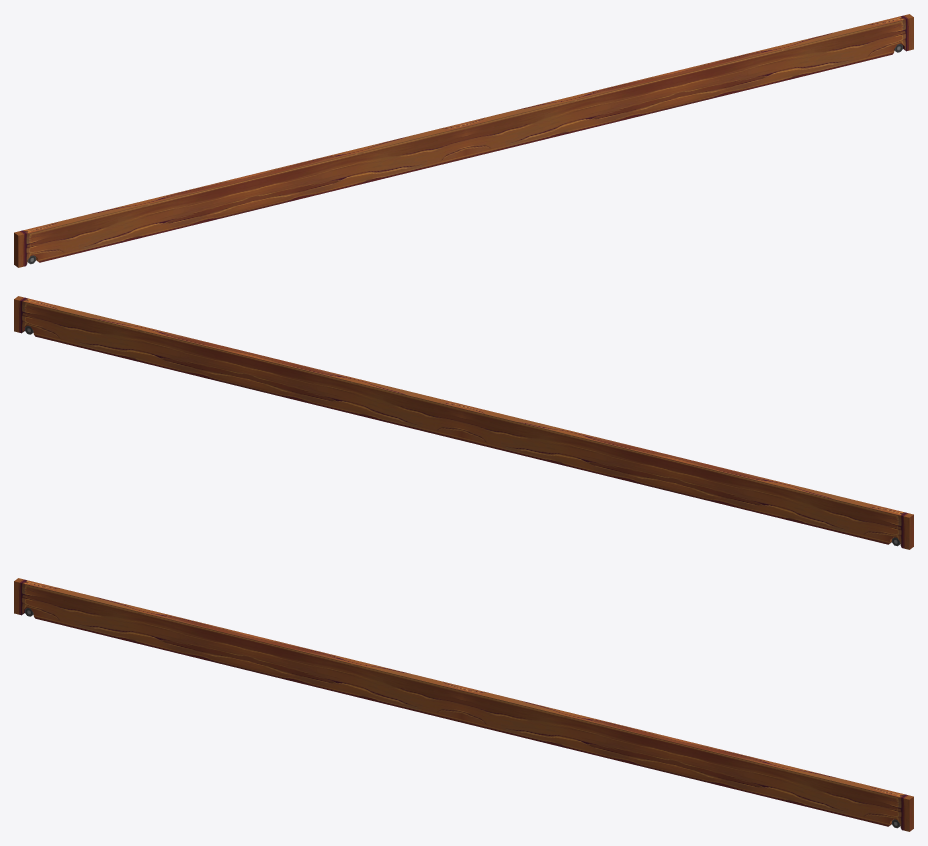
File: long_fence_wood.fbx
3 renders of one model, top to bottom at view 1: azimuth 30°, elevation 25°; view 2: azimuth 150°, elevation 25°; view 3: azimuth 330°, elevation 25°, orthographic.
Parts seen in each view (by area): view 1: long_fence_wood; view 2: long_fence_wood; view 3: long_fence_wood.
Boxes of the visible parts, left/top/right/bottom form: long_fence_wood: left=14, top=14, right=913, bottom=267; long_fence_wood: left=14, top=296, right=913, bottom=549; long_fence_wood: left=14, top=578, right=913, bottom=831.
Size of the model in its own units: 1165 by 40 by 10.08.
